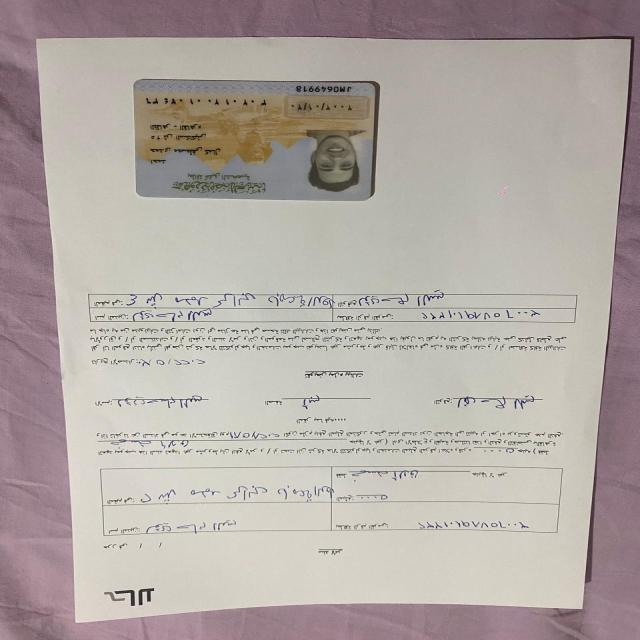ID-cards: (125, 69, 390, 205)
